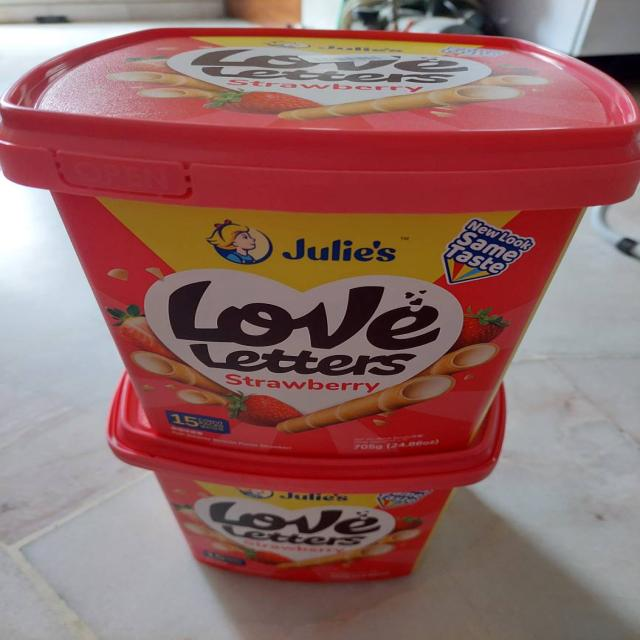plastic: (6, 24, 640, 450), (96, 374, 520, 588)
